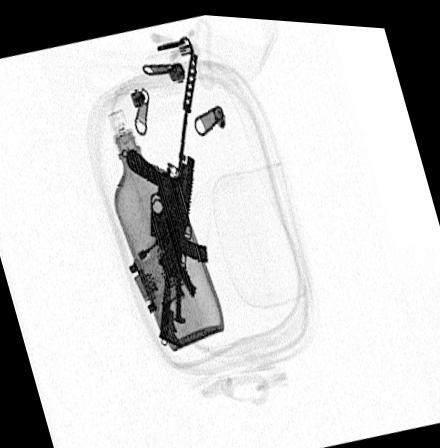Gun: (156, 48, 208, 346), (126, 146, 181, 340)
